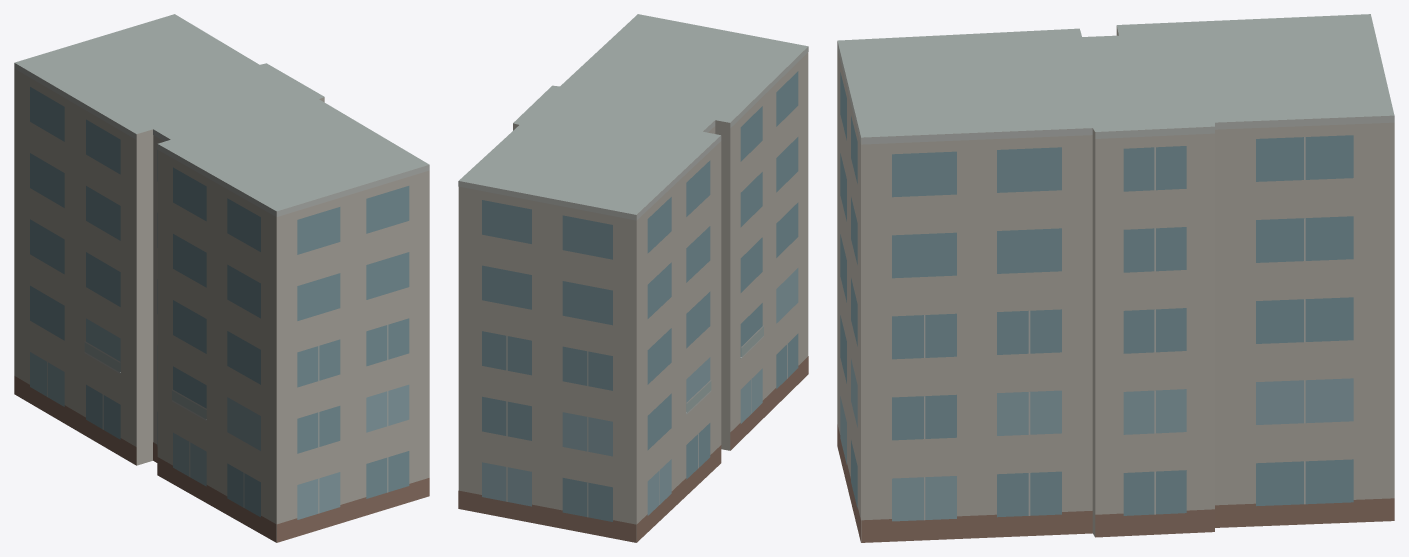
The model's file is survey-upis-32615525.glb.
3 renders of one model, left to right at view 1: azimuth 30°, elevation 25°; view 2: azimuth 150°, elevation 25°; view 3: azimuth 270°, elevation 25°, orthographic. The views are drawn at different scales.
Parts seen in each view (by area): view 1: survey-upis-32615525.tmp; view 2: survey-upis-32615525.tmp; view 3: survey-upis-32615525.tmp.
Part boxes in pixels (x1,y1,x2,y2): survey-upis-32615525.tmp: [14, 14, 429, 542]; survey-upis-32615525.tmp: [458, 14, 808, 542]; survey-upis-32615525.tmp: [837, 14, 1394, 542].
Bounding box in the file's own units: 9.23 × 14.1 × 17.58.
